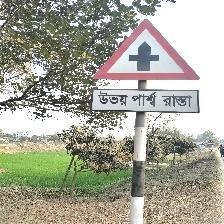Crossroad: (87, 16, 205, 122)
